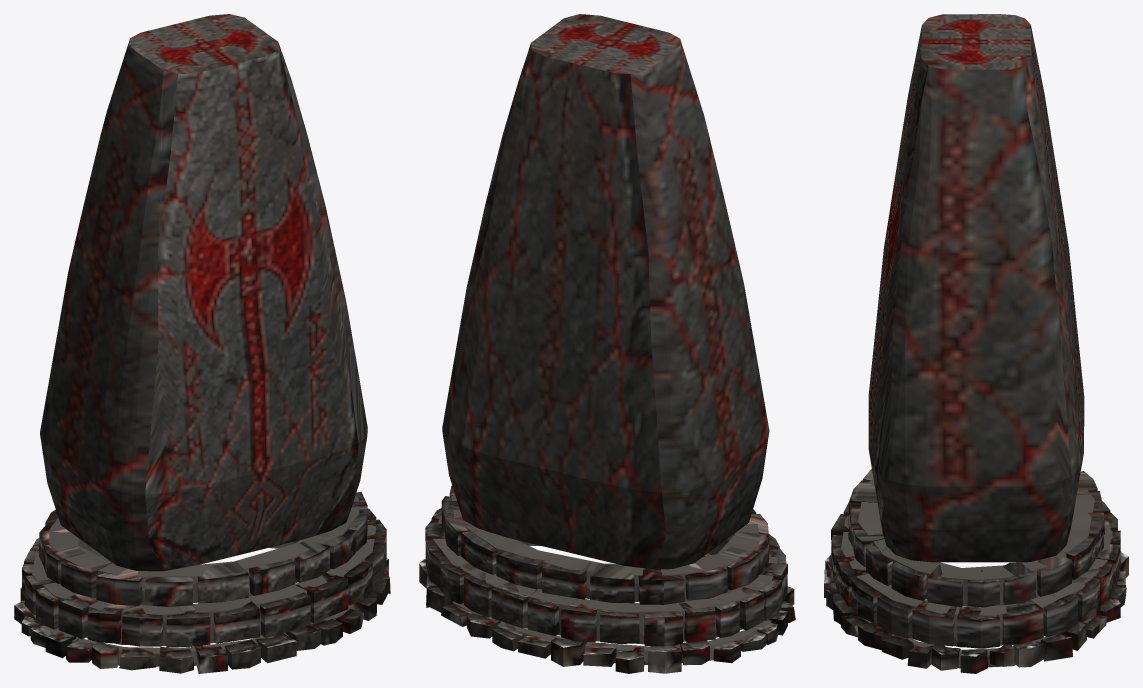
File: SM_GIA_BloodAxeCairnstone_A005_VisualCorrection_A08_LOD2.fbx
3 views of the same model, side by side, from view 1: azimuth 30°, elevation 25°; view 2: azimuth 150°, elevation 25°; view 3: azimuth 270°, elevation 25° (orthographic).
Visible parts, largest first — view 1: SM_GIA_BloodAxeCairnstone_A005_LOD2; view 2: SM_GIA_BloodAxeCairnstone_A005_LOD2; view 3: SM_GIA_BloodAxeCairnstone_A005_LOD2.
Boxes of the visible parts, bbox=[...] form: SM_GIA_BloodAxeCairnstone_A005_LOD2: bbox=[14, 14, 390, 673]; SM_GIA_BloodAxeCairnstone_A005_LOD2: bbox=[419, 14, 795, 673]; SM_GIA_BloodAxeCairnstone_A005_LOD2: bbox=[824, 14, 1128, 673].
Size of the model in its own units: 140 by 220 by 110.
